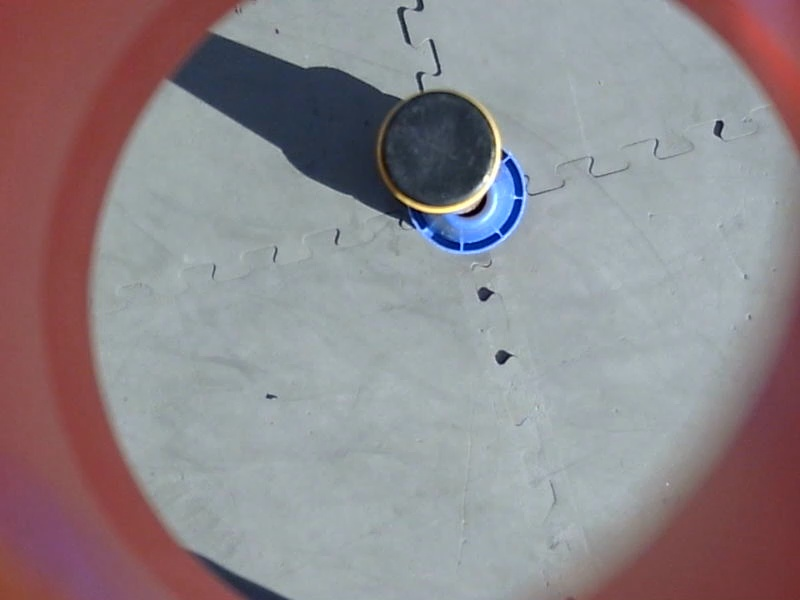tip: (370, 84, 507, 219)
